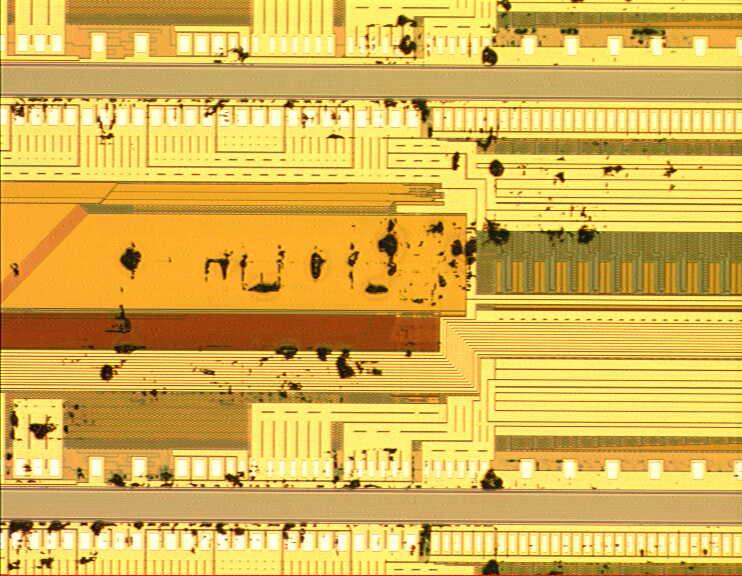PO CONTAMINATION: (1, 1, 710, 576)
